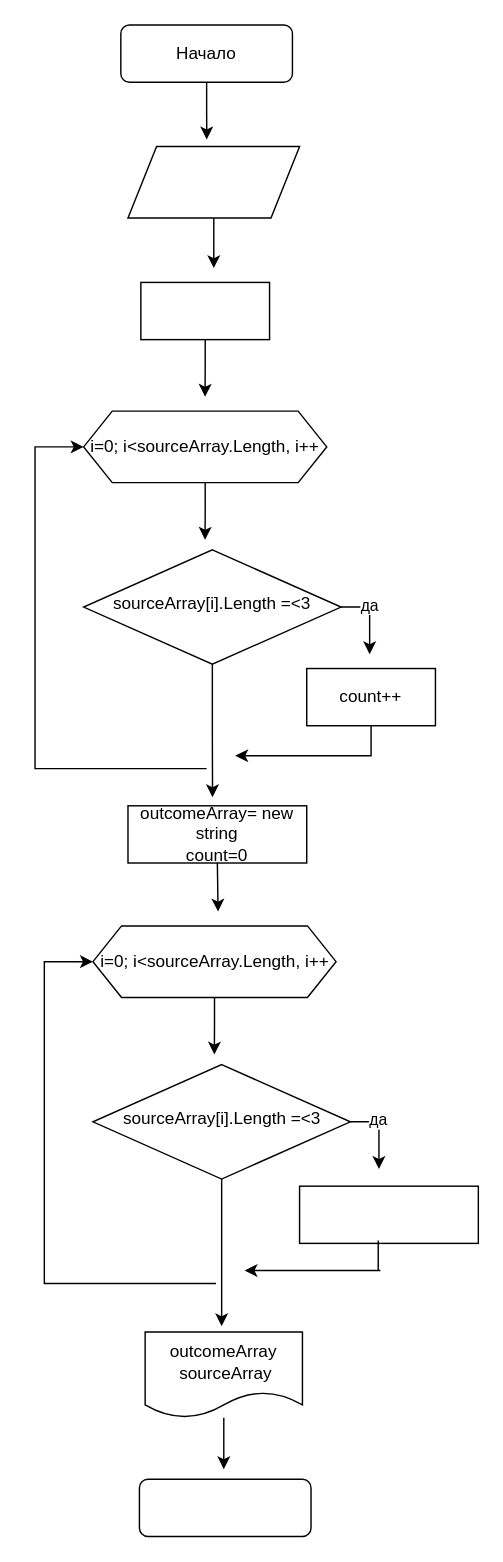
Image size: 503x1562. Some labels were removed from this diagram. The box of each missing label's shape, as (x1, y1, x2, y2) in pixels:
count=0: (139, 281, 270, 340)
outcomeArray[count]= sourceArray[i] count++: (298, 1185, 478, 1243)
ввод sourceArray: (127, 145, 300, 218)
конец: (138, 1478, 311, 1537)
